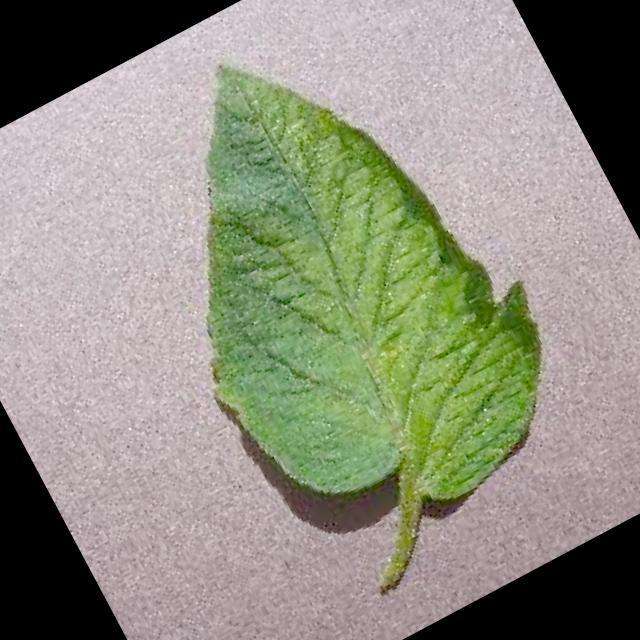Tomato spider mites leaf: (80, 0, 594, 574)
